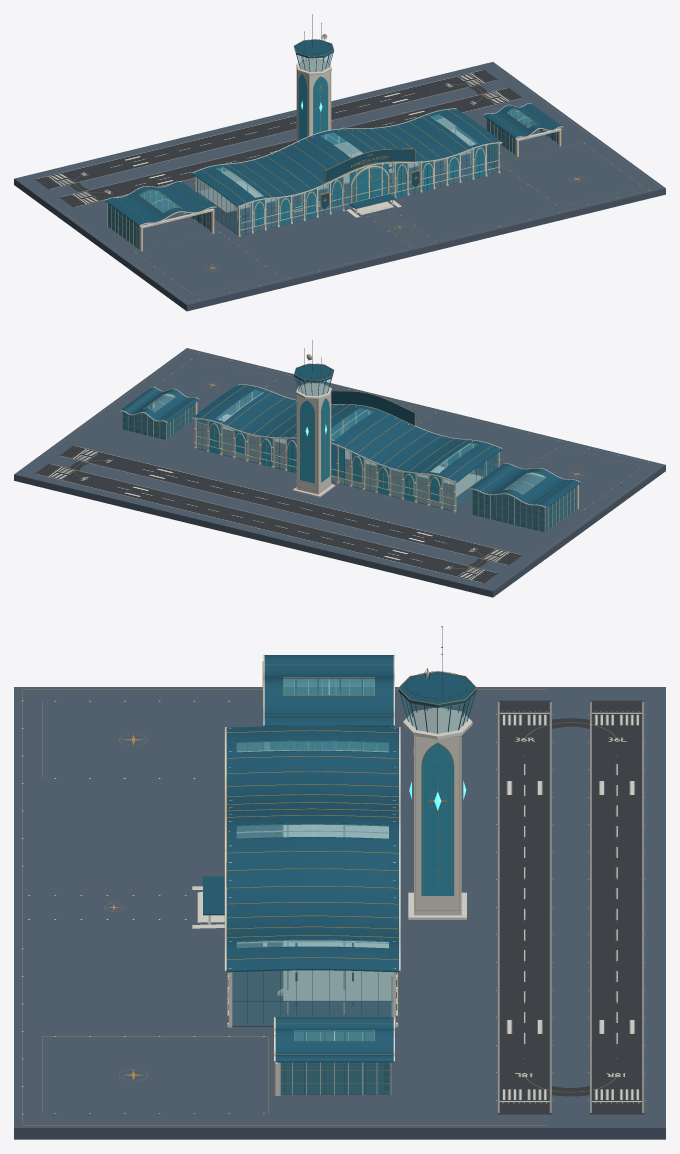
Rendered from Horizon.glb.
3 renders of one model, top to bottom at view 1: azimuth 30°, elevation 25°; view 2: azimuth 150°, elevation 25°; view 3: azimuth 270°, elevation 25°, orthographic. The views are drawn at different scales.
Parts seen in each view (by area): view 1: GW Paving, GW Teal, GW Filtered Runway Surface, GW Ivory, GW Glass Dark, GW Gold, GW Terminal Tint, GW Hangar Glass, GW Glass Highlight, GW Glass; view 2: GW Paving, GW Teal, GW Filtered Runway Surface, GW Ivory, GW Glass Dark, GW Hangar Glass, GW Terminal Tint, GW Gold, GW Glass Highlight, GW Glass; view 3: GW Paving, GW Teal, GW Filtered Runway Surface, GW Ivory, GW Gold, GW Terminal Tint, GW Glass Highlight, GW Hangar Glass, GW Glass Dark, GW Glass.
Boxes of the visible parts, <box> form: GW Paving: <box>14,62,665,311</box>; GW Teal: <box>105,39,561,233</box>; GW Filtered Runway Surface: <box>35,69,522,207</box>; GW Ivory: <box>104,34,563,251</box>; GW Glass Dark: <box>216,74,485,225</box>; GW Gold: <box>50,34,660,300</box>; GW Terminal Tint: <box>196,126,497,235</box>; GW Hangar Glass: <box>108,109,559,248</box>; GW Glass Highlight: <box>139,109,538,212</box>; GW Glass: <box>253,53,458,231</box>; GW Paving: <box>14,348,665,597</box>; GW Teal: <box>121,364,580,507</box>; GW Filtered Runway Surface: <box>35,445,522,583</box>; GW Ivory: <box>119,354,580,532</box>; GW Glass Dark: <box>209,390,484,501</box>; GW Hangar Glass: <box>122,403,577,532</box>; GW Terminal Tint: <box>196,393,497,510</box>; GW Gold: <box>52,353,652,566</box>; GW Glass Highlight: <box>144,389,545,494</box>; GW Glass: <box>235,377,440,507</box>; GW Paving: <box>14,687,665,1139</box>; GW Teal: <box>203,655,476,1062</box>; GW Filtered Runway Surface: <box>497,700,644,1114</box>; GW Ivory: <box>192,654,472,1095</box>; GW Gold: <box>21,661,545,1125</box>; GW Terminal Tint: <box>232,742,392,1025</box>; GW Glass Highlight: <box>236,678,388,1040</box>; GW Hangar Glass: <box>270,679,390,1094</box>; GW Glass Dark: <box>421,742,453,895</box>; GW Glass: <box>401,694,474,733</box>.
Bounding box in the file's own units: 960 × 297 × 600.
Materials: 13 (1 with a texture image).
